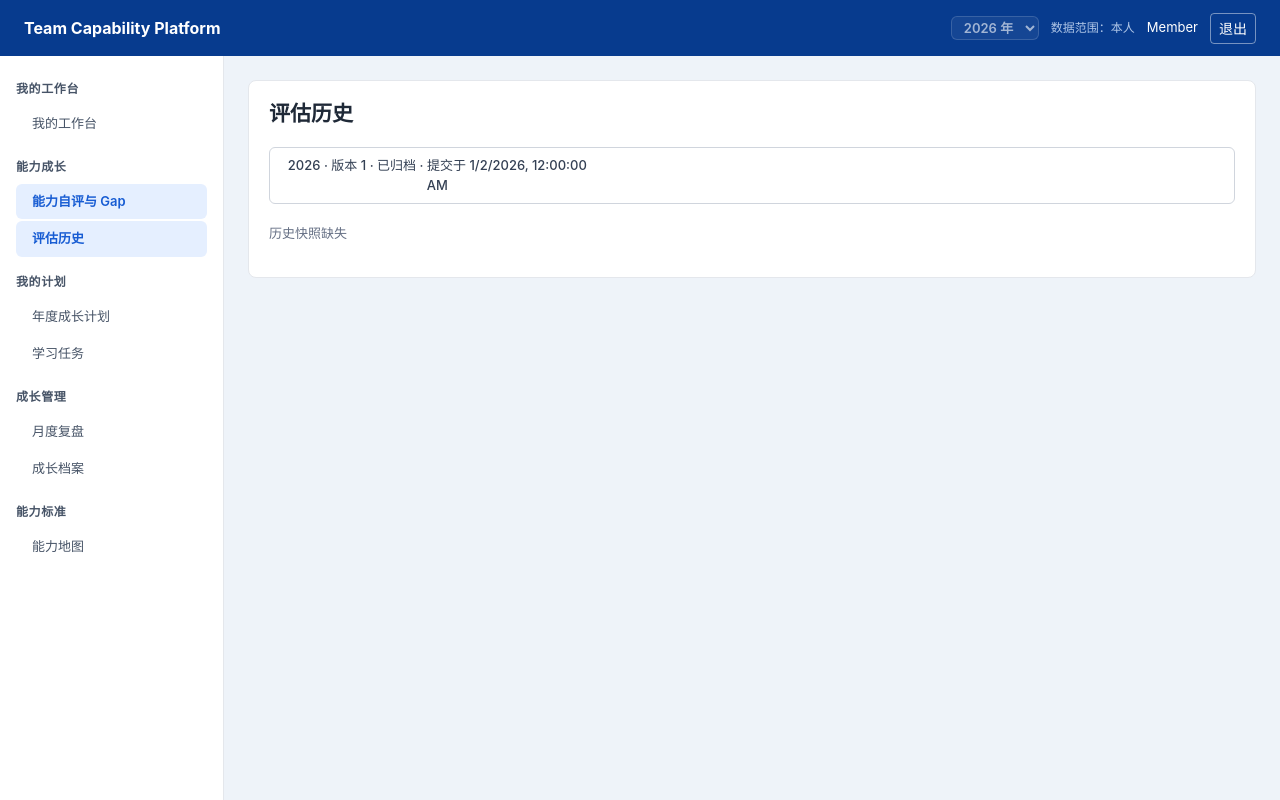
AssessmentHistoryPage › shows current-model L2/L3 mapping without presenting live L2 requirements as history
Click the button "2026 · 版本 1 · 已归档 · 提交于 1/2/2026, 12:00:00 AM". click: {"x": 304, "y": 165}
box: x1=269 y1=147 x2=1235 y2=204
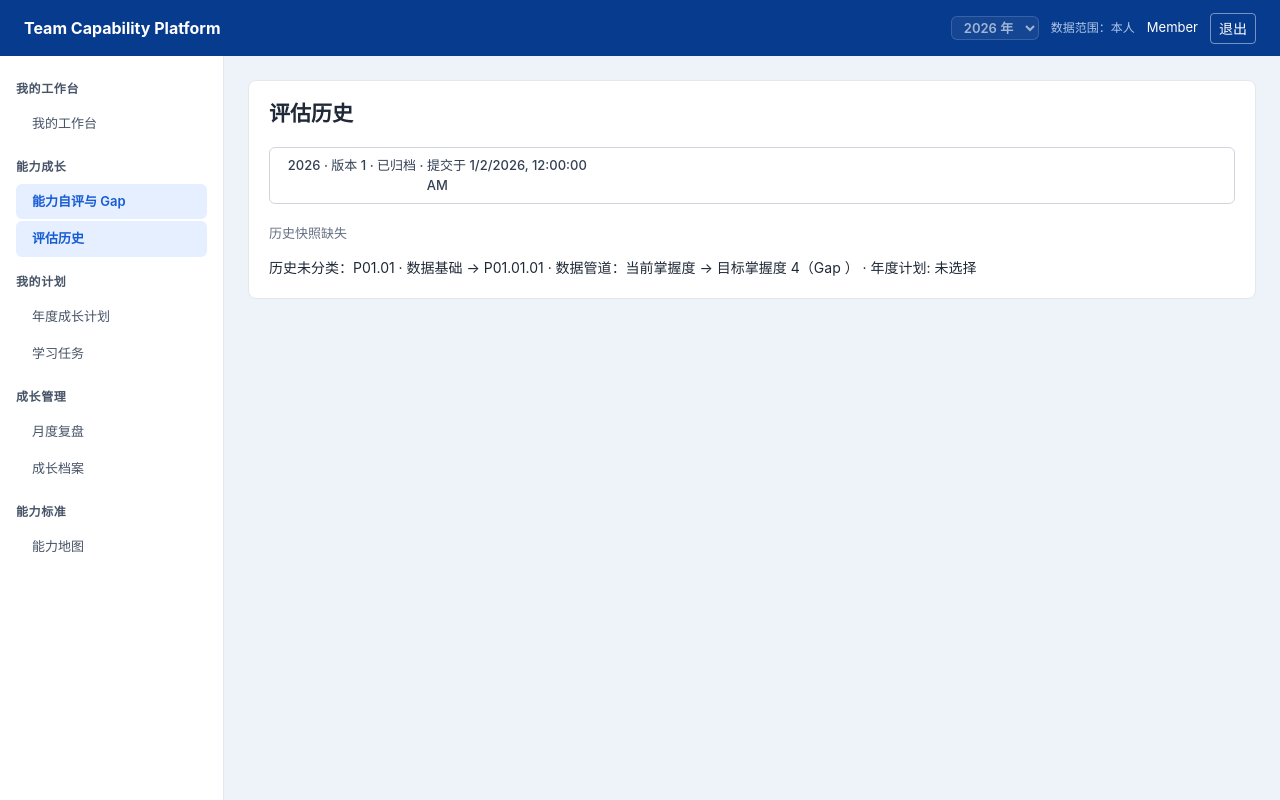
Expected: the list item is shown, x1=269 y1=259 x2=977 y2=276
